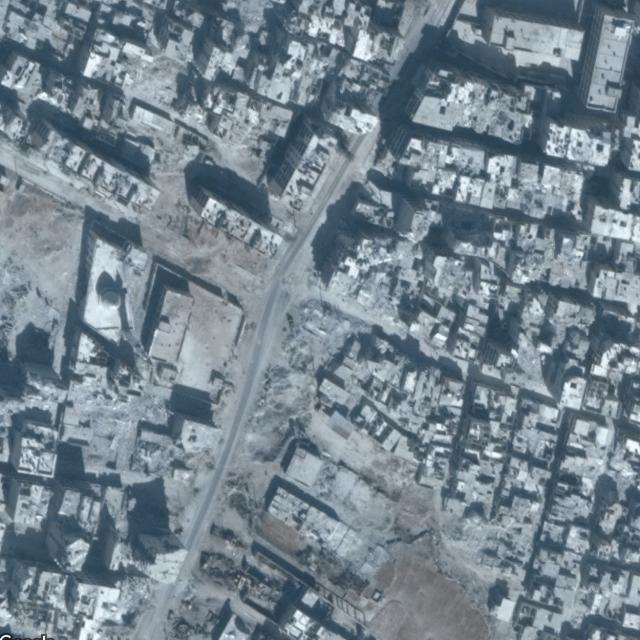damaged_building: (163, 298, 364, 638), (437, 500, 533, 612), (130, 49, 193, 117)
